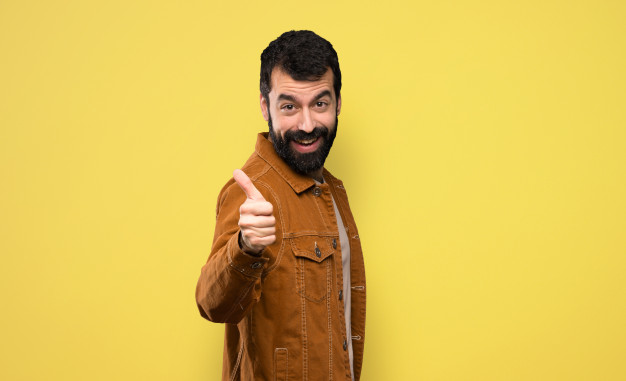thumbsup: (233, 169, 277, 247)
